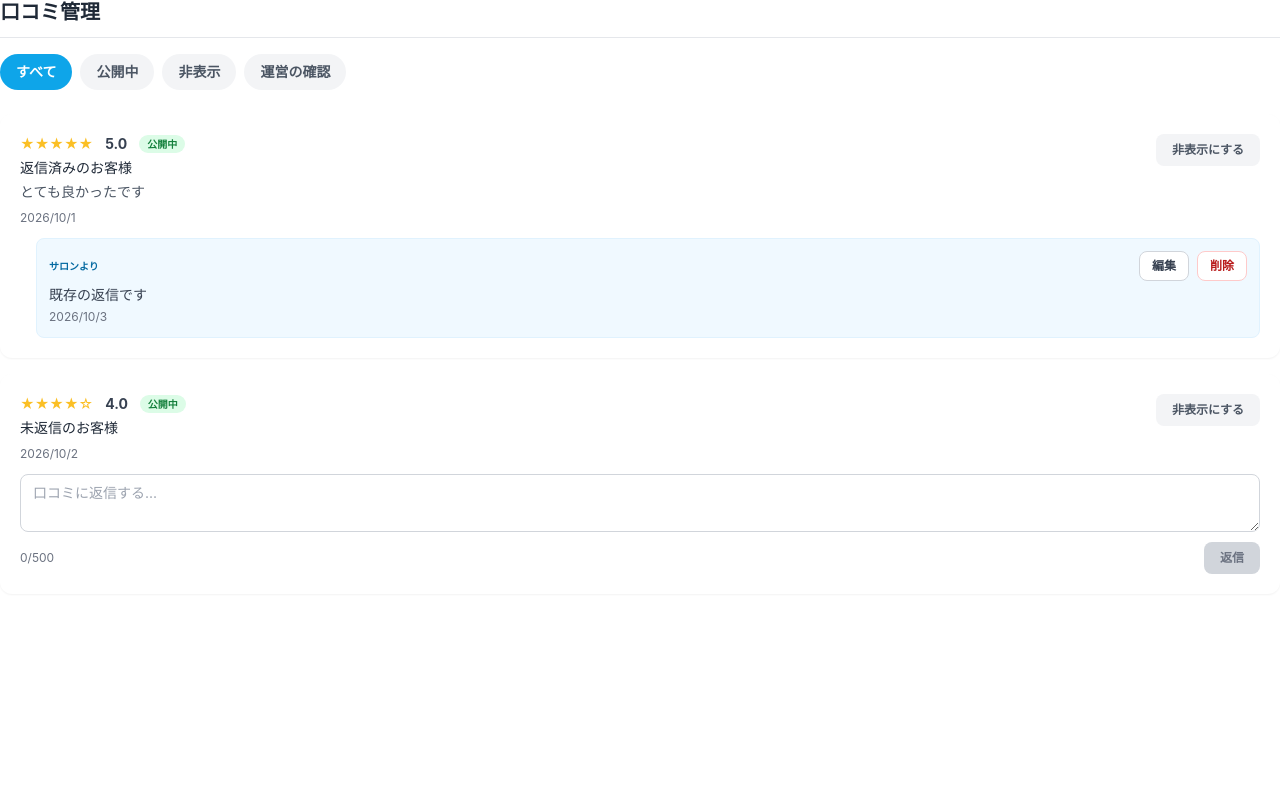
Test case: 公開 › 確認後に API へ送り、公開した返信を「編集」「削除」つきで表示する
Type "  ありがとうございます  " into the text box with placeholder "口コミに返信する..." at (640, 503), box [20,474,1260,532]
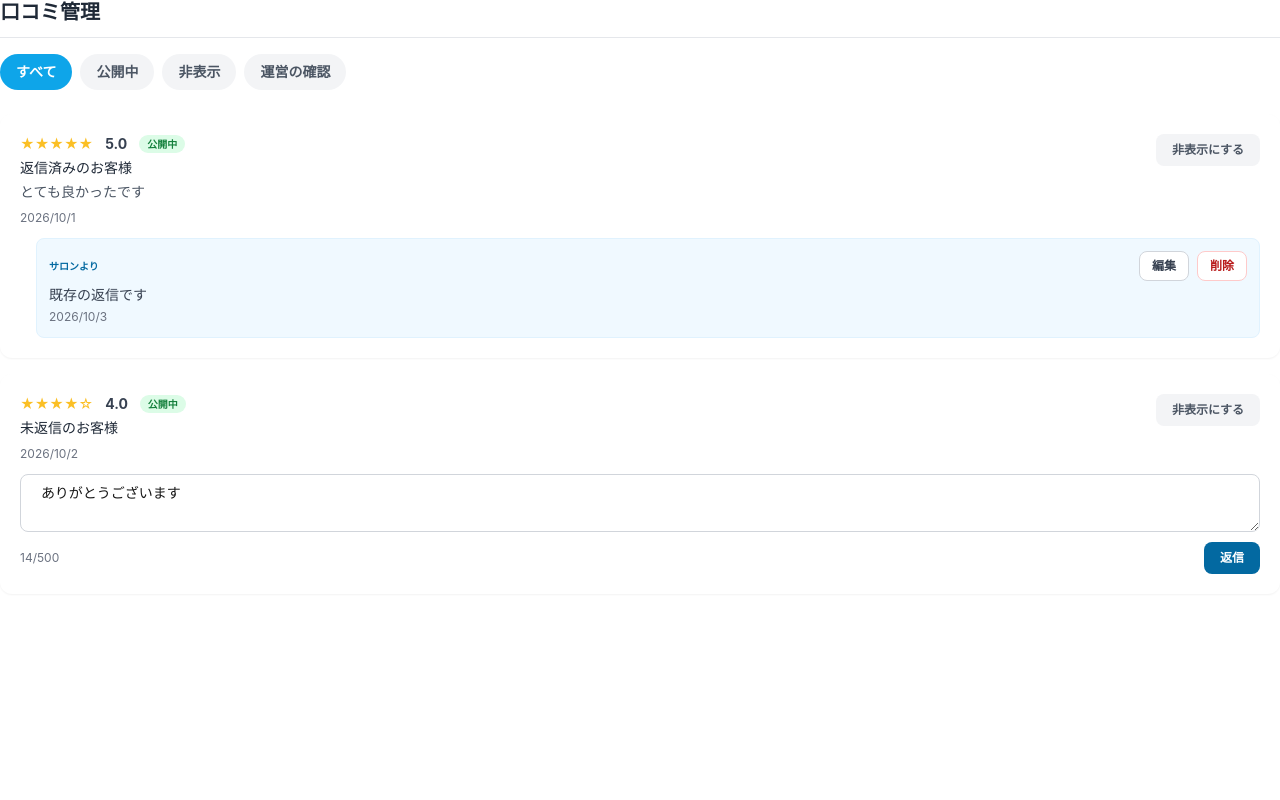
Click the button "返信" at (1232, 558), box [1204,542,1260,574]
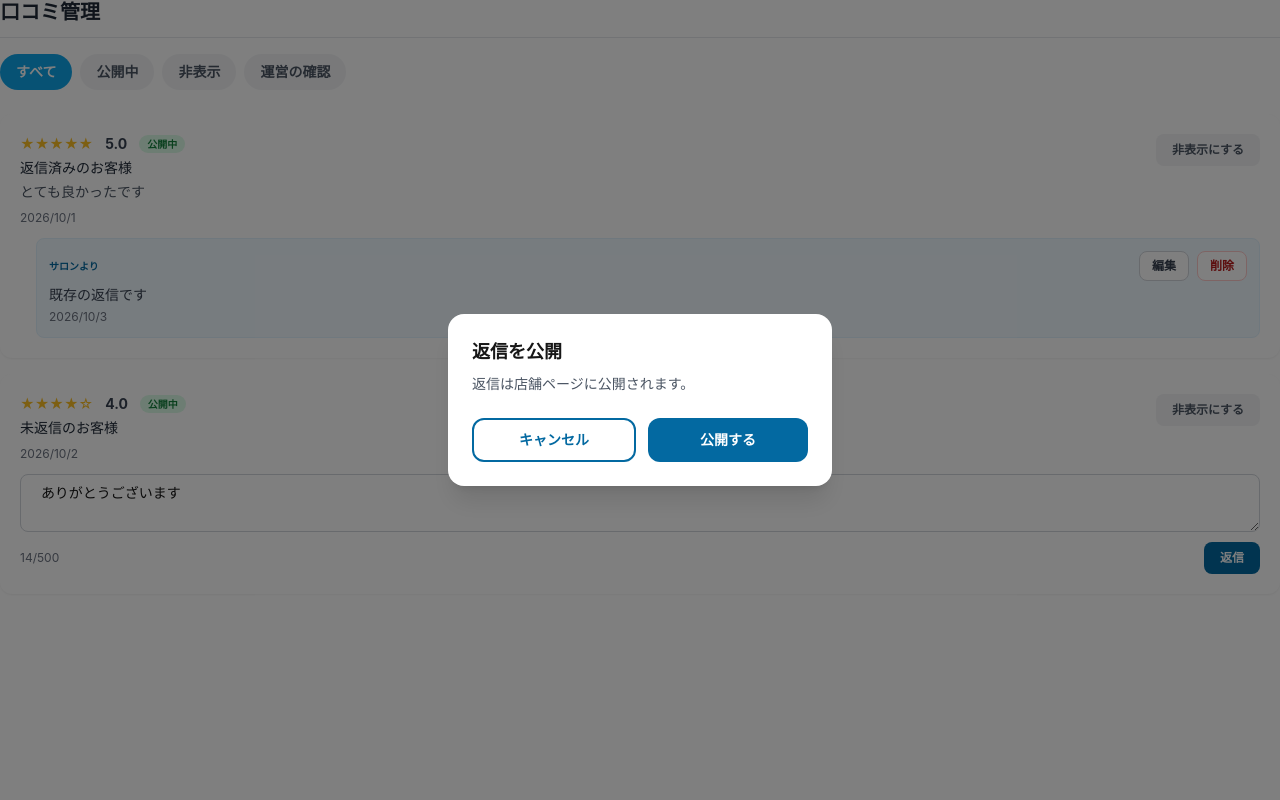
Click the button "公開する" at (728, 440), box [648,418,808,462]
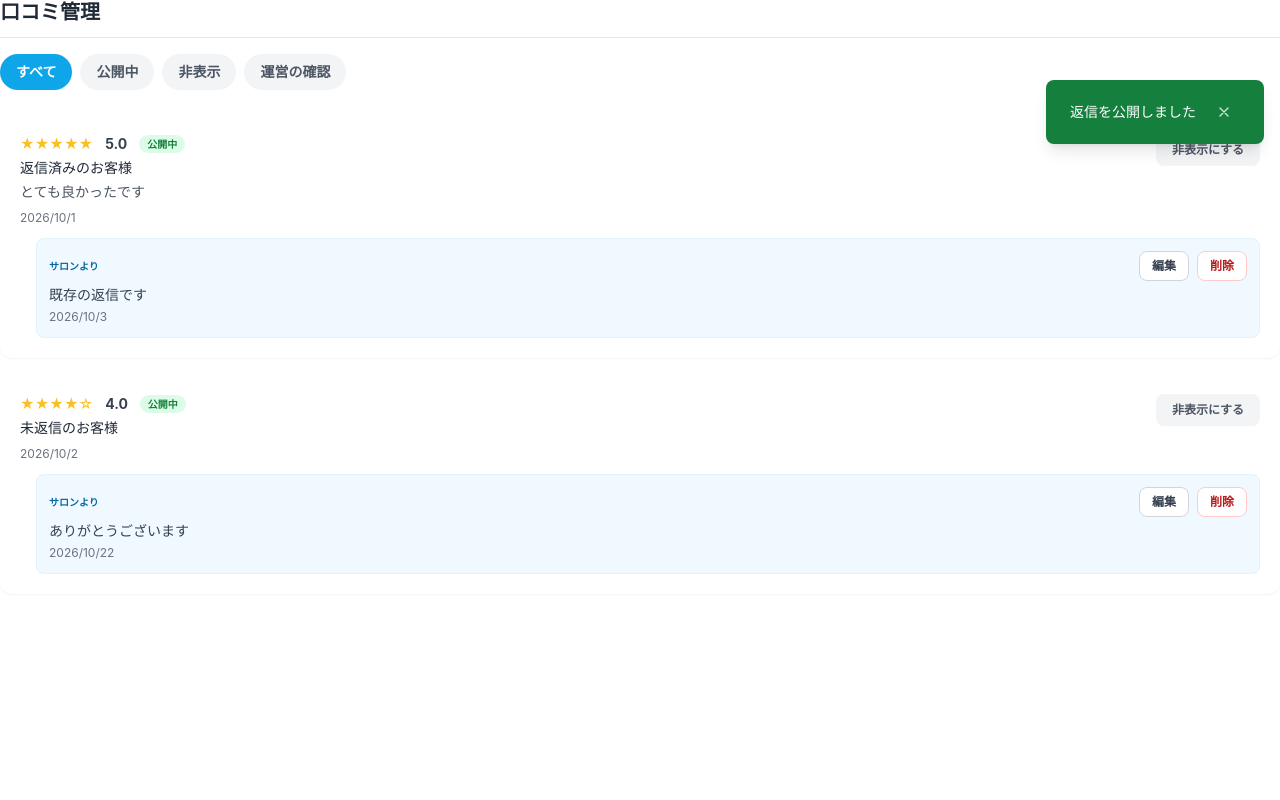
Expected: the message reads "返信を公開しました", [1070,103,1196,120]
